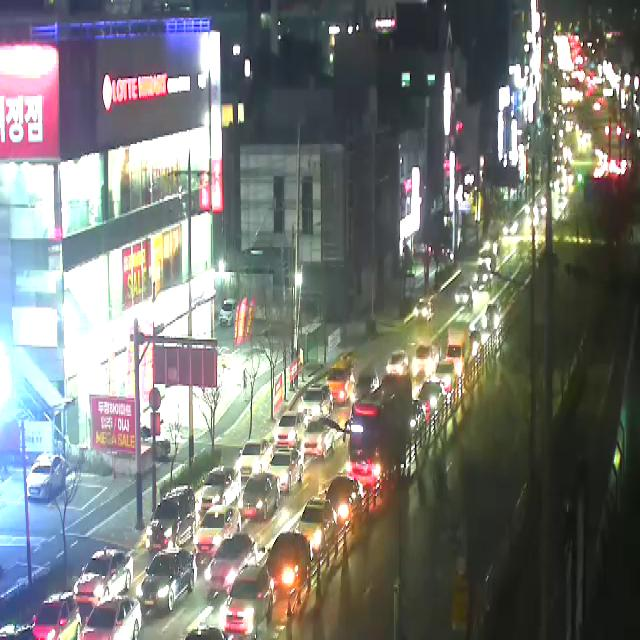Bus: (344, 371, 414, 506)
Car: (262, 528, 318, 602), (136, 546, 195, 614), (222, 563, 274, 638), (145, 484, 196, 554), (73, 548, 133, 606), (327, 471, 377, 538), (294, 496, 343, 563), (204, 532, 255, 595), (78, 594, 142, 640), (191, 453, 239, 512), (196, 504, 244, 556), (32, 590, 81, 640), (269, 440, 307, 494), (235, 433, 273, 486), (302, 409, 338, 463), (26, 454, 66, 501), (329, 351, 359, 413), (246, 473, 280, 525), (294, 380, 329, 422), (136, 425, 172, 461), (274, 400, 302, 445), (430, 353, 460, 395), (418, 375, 442, 427), (378, 338, 407, 381), (481, 286, 504, 332), (464, 329, 486, 355), (219, 298, 237, 328), (456, 284, 474, 309), (415, 297, 432, 322)
Truck: (439, 314, 469, 384), (412, 333, 442, 378)
